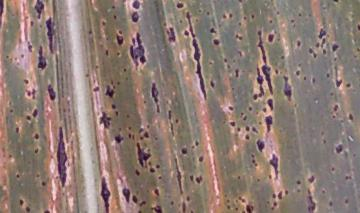tarspot: (184, 11, 207, 98), (255, 30, 277, 97), (55, 126, 71, 188), (128, 30, 147, 68), (98, 176, 114, 213), (44, 15, 58, 54), (172, 155, 186, 193), (134, 140, 155, 165), (251, 65, 265, 102), (268, 152, 283, 180), (97, 109, 114, 132), (304, 187, 318, 213), (34, 45, 47, 72), (148, 80, 162, 105), (282, 72, 294, 101), (46, 80, 58, 105), (33, 1, 47, 19), (263, 114, 275, 133), (254, 137, 268, 153), (164, 26, 177, 43), (103, 83, 116, 99), (128, 9, 142, 23), (346, 108, 357, 125), (25, 87, 39, 100), (84, 25, 96, 40), (120, 187, 131, 203), (265, 31, 278, 44), (316, 26, 328, 40), (113, 131, 124, 146), (334, 142, 346, 155), (114, 33, 125, 47), (128, 1, 144, 10), (333, 76, 345, 88), (307, 173, 318, 186), (194, 172, 204, 186), (208, 77, 218, 91), (227, 118, 239, 129), (207, 25, 219, 36), (233, 31, 244, 43), (130, 168, 143, 178), (174, 1, 187, 11), (151, 204, 165, 213), (21, 75, 32, 86), (179, 145, 190, 156), (147, 165, 158, 176), (244, 202, 255, 213), (210, 37, 222, 47), (330, 41, 340, 53), (293, 177, 305, 187), (266, 97, 275, 110), (13, 123, 21, 137), (30, 108, 41, 118), (141, 130, 152, 140), (330, 102, 341, 112), (98, 19, 109, 29), (343, 173, 354, 183), (152, 186, 161, 198), (294, 38, 303, 50), (173, 115, 182, 127), (272, 198, 280, 211), (26, 19, 36, 29), (23, 112, 33, 122), (153, 104, 163, 114), (344, 80, 354, 90), (326, 198, 336, 208), (277, 51, 287, 61), (266, 17, 276, 27), (32, 131, 41, 142), (192, 138, 201, 149), (293, 68, 304, 77), (320, 45, 329, 56), (168, 197, 177, 208), (233, 65, 240, 79), (353, 22, 360, 36), (225, 104, 237, 112), (221, 11, 229, 23), (289, 14, 297, 26), (181, 200, 188, 213), (250, 11, 257, 24), (16, 196, 25, 206), (23, 204, 33, 213), (196, 153, 206, 162), (245, 104, 255, 113), (110, 12, 119, 22), (188, 172, 194, 187), (310, 77, 319, 87), (236, 48, 245, 58), (32, 145, 40, 156), (343, 196, 351, 207), (251, 157, 259, 168), (25, 44, 36, 52), (254, 177, 265, 185), (132, 193, 139, 205), (228, 9, 234, 23), (236, 173, 243, 185), (243, 132, 252, 141), (125, 130, 134, 139), (7, 106, 16, 115), (91, 85, 101, 93), (104, 47, 112, 57), (114, 108, 122, 118), (144, 121, 152, 131), (12, 172, 23, 179), (39, 179, 47, 188), (140, 197, 148, 206), (182, 29, 190, 38), (222, 55, 230, 64), (313, 39, 321, 48), (114, 50, 123, 58), (241, 13, 249, 22), (122, 65, 129, 75), (283, 186, 290, 196), (329, 1, 343, 6), (277, 190, 283, 201), (109, 3, 117, 11), (108, 101, 116, 109), (329, 165, 337, 173), (236, 194, 244, 202), (311, 52, 318, 61), (233, 204, 240, 213), (40, 208, 52, 213), (325, 70, 333, 77), (244, 125, 251, 132), (241, 114, 248, 121)
